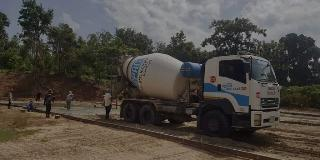cement_mixer_truck: (111, 49, 281, 141)
